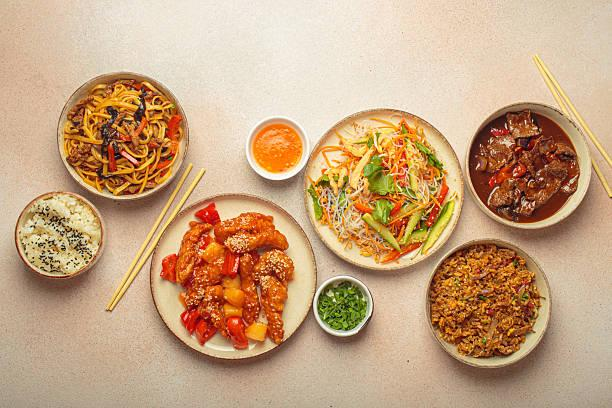Braised Crucian Carp: (148, 191, 313, 360), (303, 108, 464, 270), (55, 72, 187, 202), (424, 238, 551, 370), (464, 101, 591, 230), (13, 190, 104, 280)
